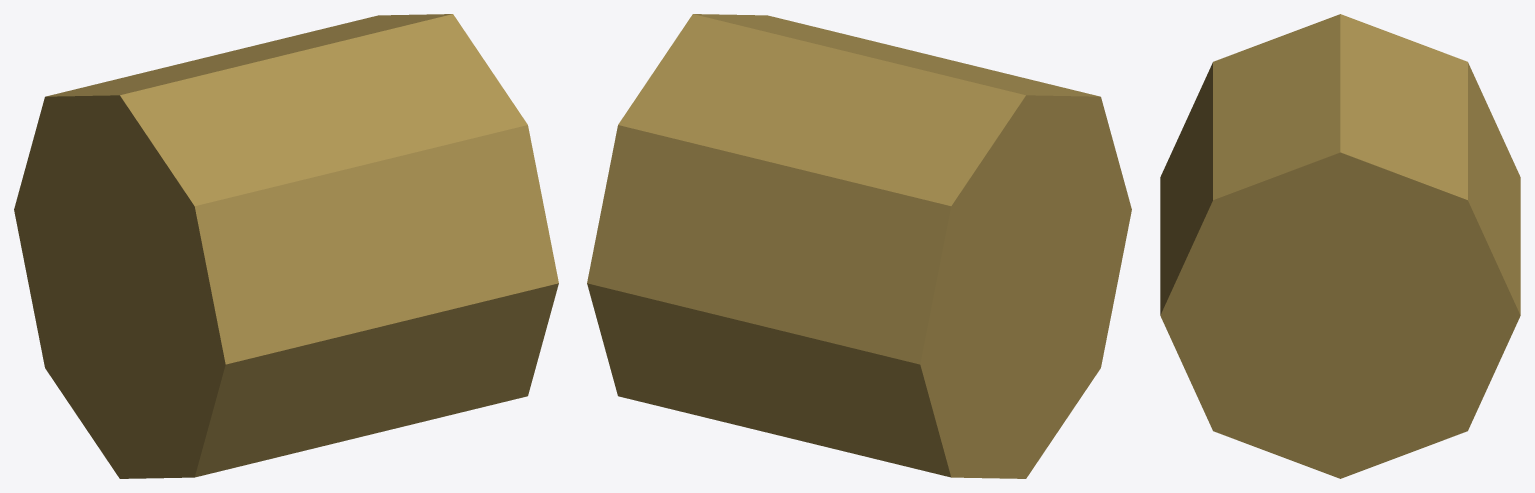
The model's file is bale.glb.
3 renders of one model, left to right at view 1: azimuth 30°, elevation 25°; view 2: azimuth 150°, elevation 25°; view 3: azimuth 270°, elevation 25°, orthographic. The views are drawn at different scales.
Visible parts, largest first — view 1: town/bale; view 2: town/bale; view 3: town/bale.
Part boxes in pixels (x1=…): town/bale: x1=14, y1=14, x2=558, y2=478; town/bale: x1=587, y1=14, x2=1131, y2=478; town/bale: x1=1160, y1=14, x2=1520, y2=478.
Bounding box in the file's own units: 1 × 1.1 × 1.1.
